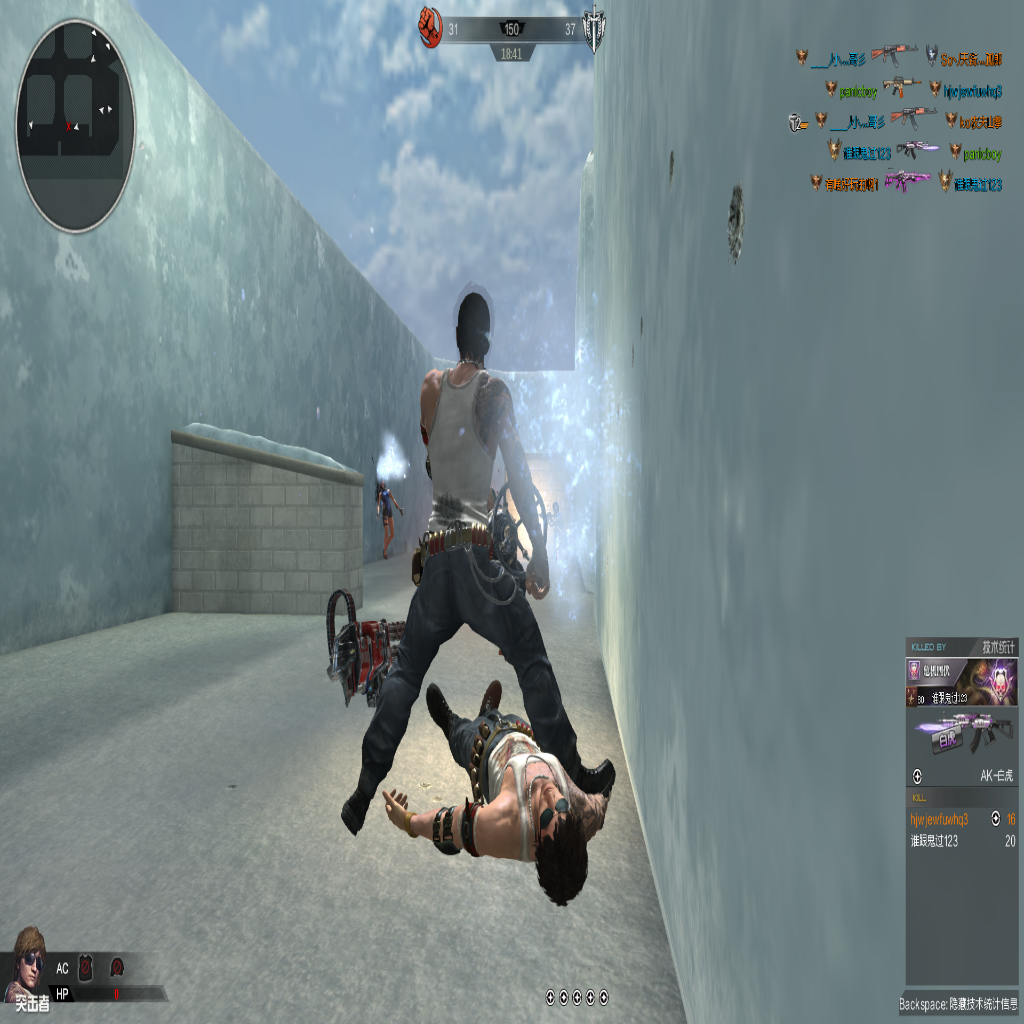ct: (377, 475, 402, 558)
tt: (331, 272, 608, 828)
